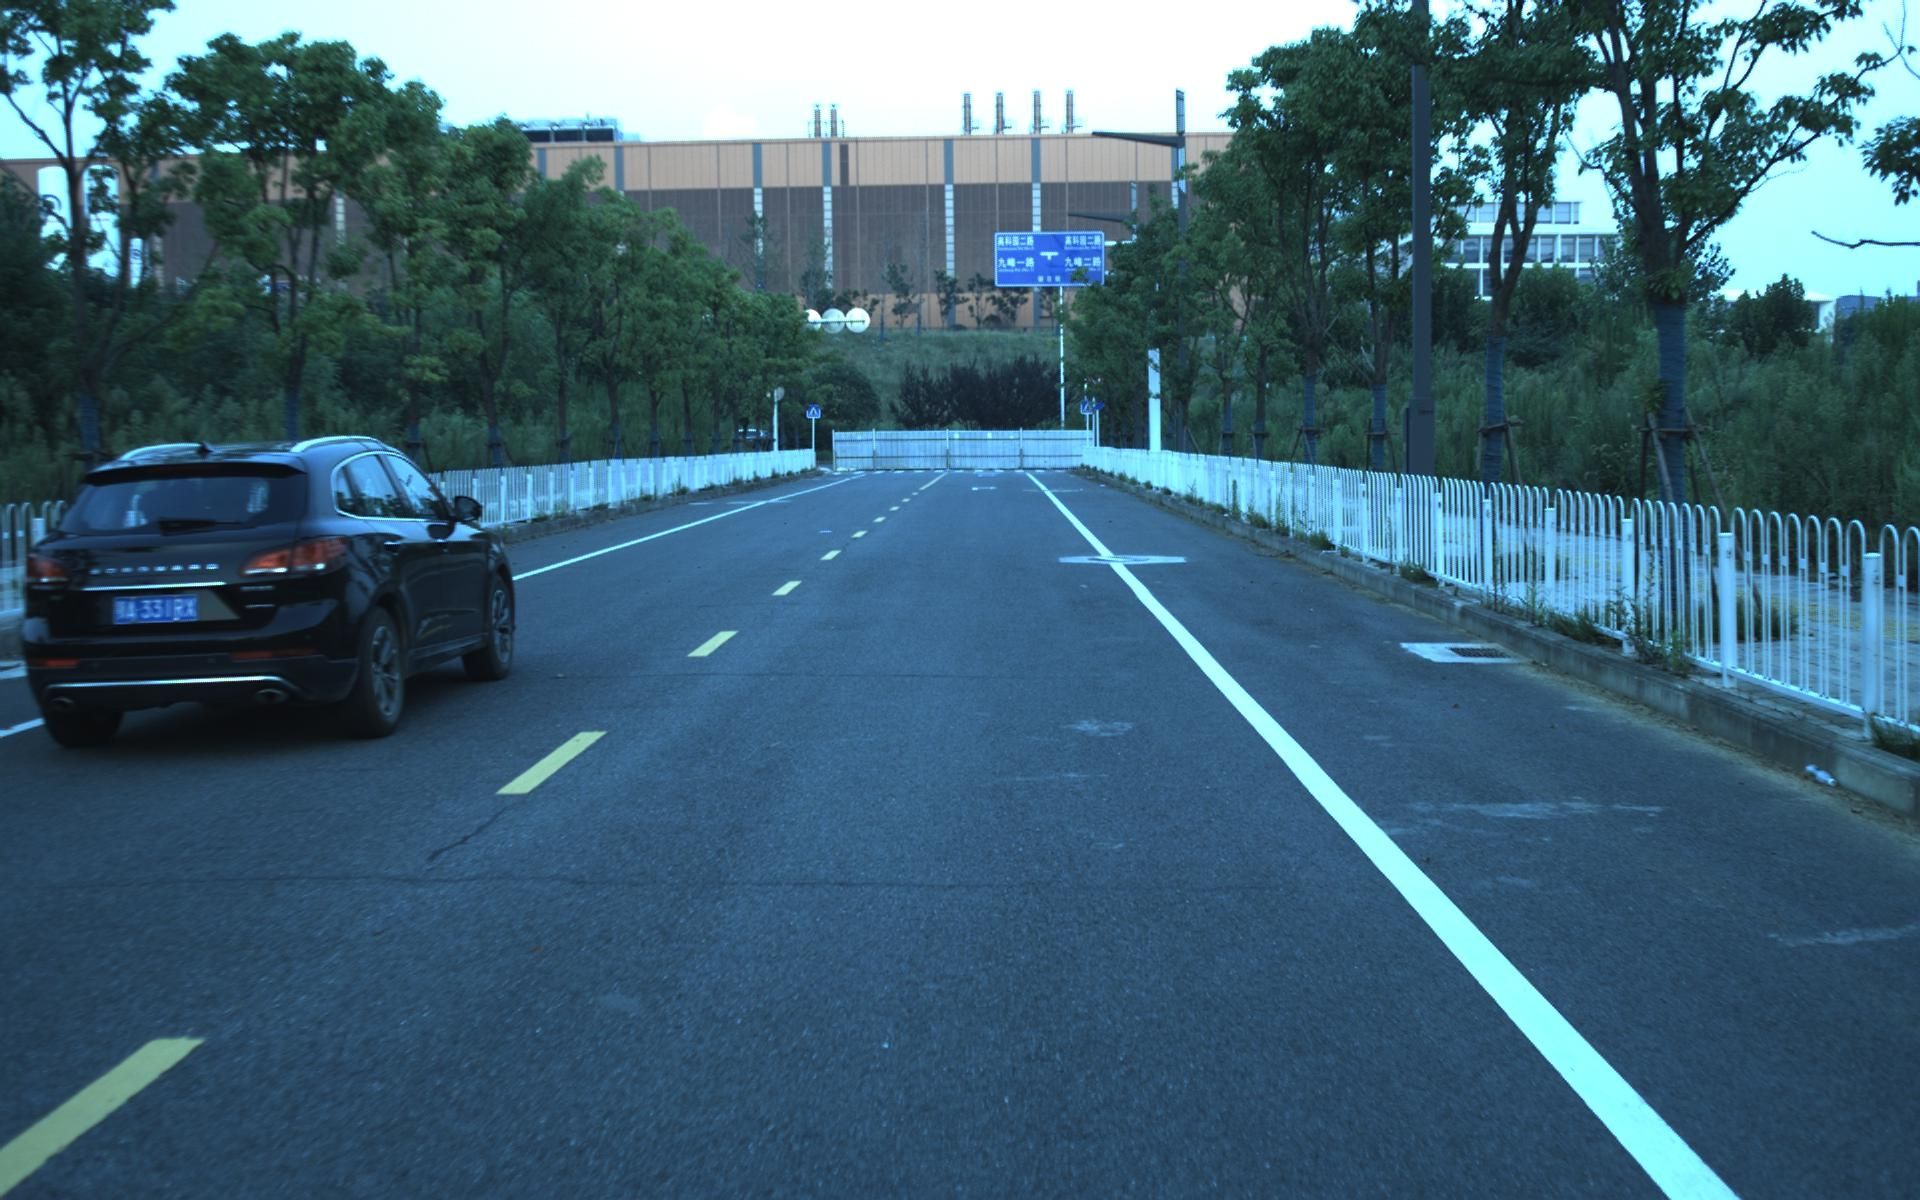Car: (1, 423, 520, 753)
